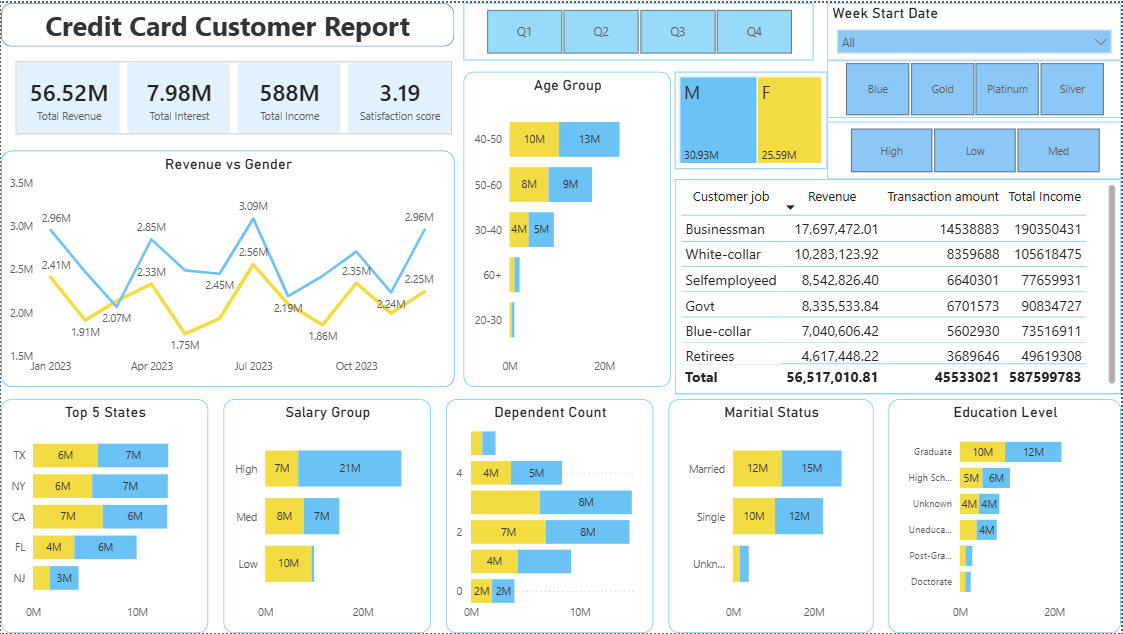

What the dashboard file says about the page in this screenshot:
{"tool":"powerbi","page":{"name":"Page 2","canvas":[1280,720],"ordinal":1},"visuals":[{"type":"shape","box":[0,0,518,50],"z":0},{"type":"cardVisual","fields":{"Data":["Sum(public cc_detail.Revenue)","Sum(public cc_detail.interest_earned)","Sum(public cust_detail.income)","Avg(public cust_detail.cust_satisfaction_score)"]},"box":[0,50.3,535.2,117.5],"z":1000},{"type":"tableEx","fields":{"Values":["public cust_detail.customer_job","Sum(public cc_detail.Revenue)","Sum(public cc_detail.total_trans_amt)","Sum(public cust_detail.income)"]},"box":[770,201.4,510,245.7],"z":2000},{"type":"slicer","fields":{"Values":["public cc_detail.qtr"]},"box":[528.6,0,400,65.7],"z":3000},{"type":"slicer","fields":{"Values":["public cc_detail.card_category"]},"box":[944.3,65.7,335.7,65.7],"z":4000},{"type":"slicer","title":"Week Start Date","fields":{"Values":["public cc_detail.week_start_date"]},"box":[944.3,0,335.7,65.7],"z":5000},{"type":"slicer","fields":{"Values":["public cust_detail.IncomeGroup"]},"box":[944.3,135.7,335.7,65.7],"z":6000},{"type":"lineChart","title":"Revenue vs Gender","fields":{"Y":["Sum(public cc_detail.Revenue)"],"Series":["public cust_detail.gender"],"Category":["public cc_detail.week_start_date.Variation.Date Hierarchy.Year","public cc_detail.week_start_date.Variation.Date Hierarchy.Month"]},"box":[0,168.6,518.6,270],"z":7001},{"type":"treemap","fields":{"Group":["public cust_detail.gender"],"Values":["Sum(public cc_detail.Revenue)"]},"box":[770,78.6,174.3,111.4],"z":7002},{"type":"barChart","title":"Top 5 States","fields":{"Category":["public cust_detail.state_cd"],"Y":["Sum(public cc_detail.Revenue)"],"Series":["public cust_detail.gender"]},"box":[0,452.9,237.1,267.1],"z":7003},{"type":"barChart","title":"Salary Group","fields":{"Category":["public cust_detail.IncomeGroup"],"Y":["Sum(public cc_detail.Revenue)"],"Series":["public cust_detail.gender"]},"box":[254.3,452.9,237.1,267.1],"z":7004},{"type":"barChart","title":"Dependent Count","fields":{"Category":["public cust_detail.dependent_count"],"Y":["Sum(public cc_detail.Revenue)"],"Series":["public cust_detail.gender"]},"box":[508.6,452.9,237.1,267.1],"z":7005},{"type":"barChart","title":"Maritial Status","fields":{"Category":["public cust_detail.marital_status"],"Y":["Sum(public cc_detail.Revenue)"],"Series":["public cust_detail.gender"]},"box":[762.9,452.9,234.3,267.1],"z":7006},{"type":"barChart","title":"Education Level","fields":{"Category":["public cust_detail.education_level"],"Y":["Sum(public cc_detail.Revenue)"],"Series":["public cust_detail.gender"]},"box":[1014.3,452.9,265.7,267.1],"z":7007},{"type":"barChart","title":"Age Group","fields":{"Y":["Sum(public cc_detail.Revenue)"],"Series":["public cust_detail.gender"],"Category":["public cust_detail.AgeGroup"]},"box":[528.6,78.6,237.1,360],"z":7008}]}

Visuals, with their boxes in screenshot pixels (x1, y1, x2, y2), scaled from the page's 1280x720 canvas onto the 1123x634 screenshot:
shape: locate(0, 0, 454, 44)
cardVisual - Sum(public cc_detail.Revenue) x Sum(public cc_detail.interest_earned): locate(0, 44, 470, 148)
tableEx - public cust_detail.customer_job x Sum(public cc_detail.Revenue): locate(676, 177, 1122, 394)
slicer - public cc_detail.qtr: locate(464, 0, 815, 58)
slicer - public cc_detail.card_category: locate(828, 58, 1122, 116)
"Week Start Date" slicer: locate(828, 0, 1122, 58)
slicer - public cust_detail.IncomeGroup: locate(828, 119, 1122, 177)
"Revenue vs Gender" lineChart: locate(0, 148, 455, 386)
treemap - public cust_detail.gender x Sum(public cc_detail.Revenue): locate(676, 69, 828, 167)
"Top 5 States" barChart: locate(0, 399, 208, 633)
"Salary Group" barChart: locate(223, 399, 431, 633)
"Dependent Count" barChart: locate(446, 399, 654, 633)
"Maritial Status" barChart: locate(669, 399, 875, 633)
"Education Level" barChart: locate(890, 399, 1122, 633)
"Age Group" barChart: locate(464, 69, 672, 386)
